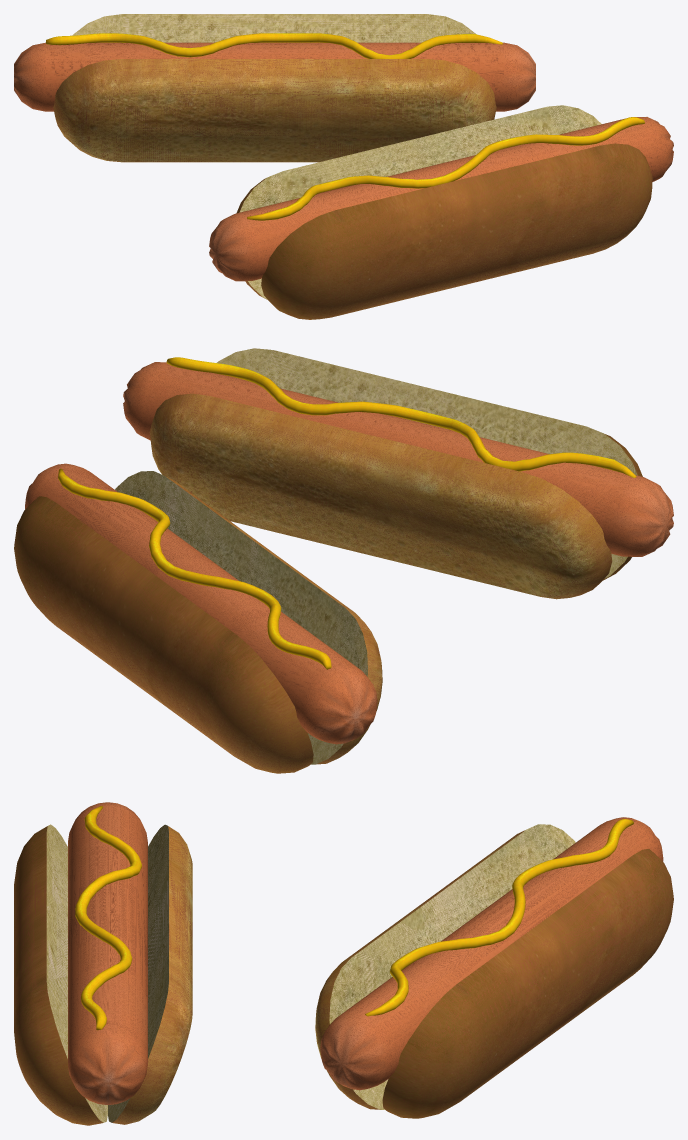
File: hotdog.dae
3 renders of one model, top to bottom at view 1: azimuth 30°, elevation 25°; view 2: azimuth 150°, elevation 25°; view 3: azimuth 270°, elevation 25°, orthographic. The views are drawn at different scales.
Parts seen in each view (by area): view 1: BunBtm01 (×2), BunTop01 (×2), HotDog (×2), Mustard (×2); view 2: BunBtm01 (×3), BunTop01 (×2), HotDog (×2), Mustard (×2); view 3: BunTop01 (×3), HotDog (×2), BunBtm01 (×4), Mustard (×2).
Boxes of the visible parts, bbox=[...] form: BunBtm01 (×2): bbox=[53, 59, 601, 299]; BunTop01 (×2): bbox=[72, 14, 652, 319]; HotDog (×2): bbox=[14, 42, 673, 281]; Mustard (×2): bbox=[46, 33, 644, 220]; BunBtm01 (×3): bbox=[115, 393, 612, 764]; BunTop01 (×2): bbox=[14, 348, 637, 773]; HotDog (×2): bbox=[25, 362, 673, 744]; Mustard (×2): bbox=[58, 357, 636, 669]; BunTop01 (×3): bbox=[14, 824, 673, 1125]; HotDog (×2): bbox=[68, 802, 663, 1104]; BunBtm01 (×4): bbox=[108, 824, 575, 1124]; Mustard (×2): bbox=[75, 806, 633, 1030].
Bounding box in the file's own units: 9.26 × 10.15 × 2.33.
Materials: 7 (4 with a texture image).
